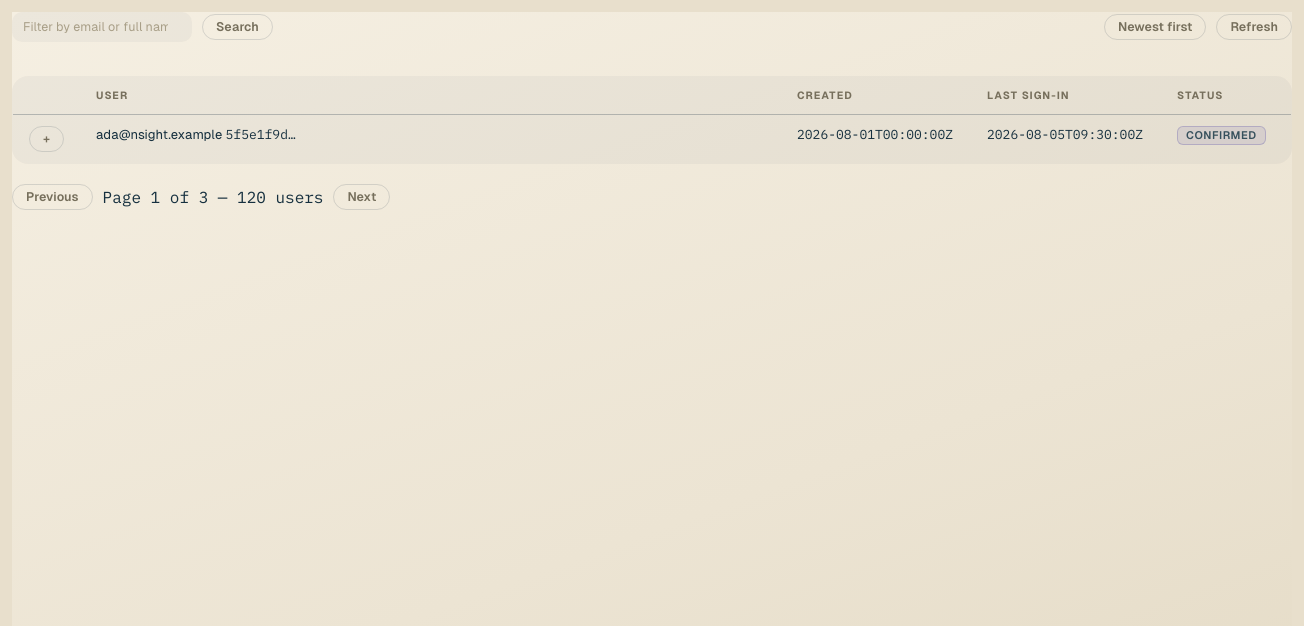
Scenario: AuthUsersClient — query controls › pagination pages through X-Total-Count-derived pages
Expected: the text "Page 1 of 3 — 120 users" is shown, x1=103 y1=187 x2=324 y2=207
Expected: the button "Previous" is disabled, x1=12 y1=184 x2=93 y2=210
What coordinates should you click on to do the following:
click the button "Next"
I would click on:
 (362, 197)
Its box is x1=334 y1=184 x2=390 y2=210.
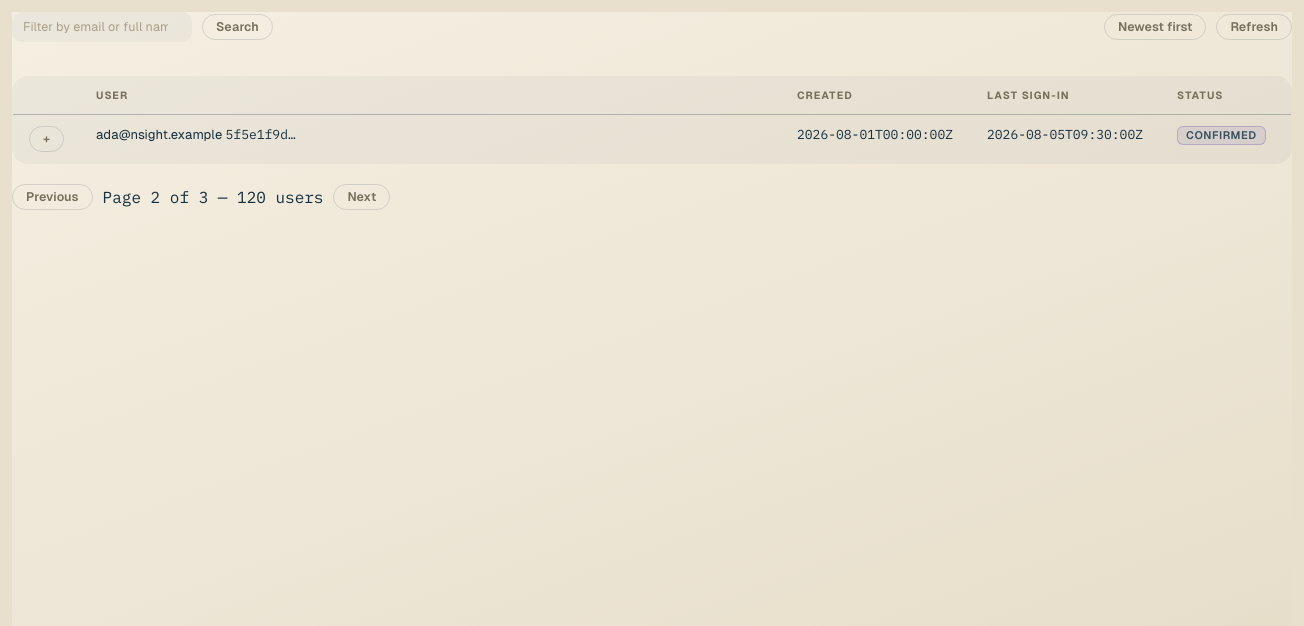
Expected: the button "Previous" is enabled, x1=12 y1=184 x2=93 y2=210
Expected: the text "Page 2 of 3 — 120 users" is shown, x1=103 y1=187 x2=324 y2=207
